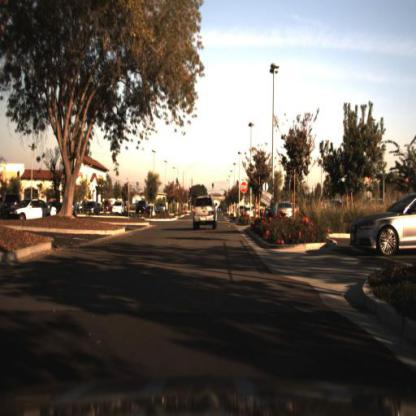car: (344, 190, 416, 260), (1, 195, 64, 223), (188, 193, 218, 235), (270, 199, 295, 225), (83, 195, 105, 219), (111, 198, 127, 219), (135, 200, 148, 220), (158, 201, 170, 219), (147, 201, 157, 217)
